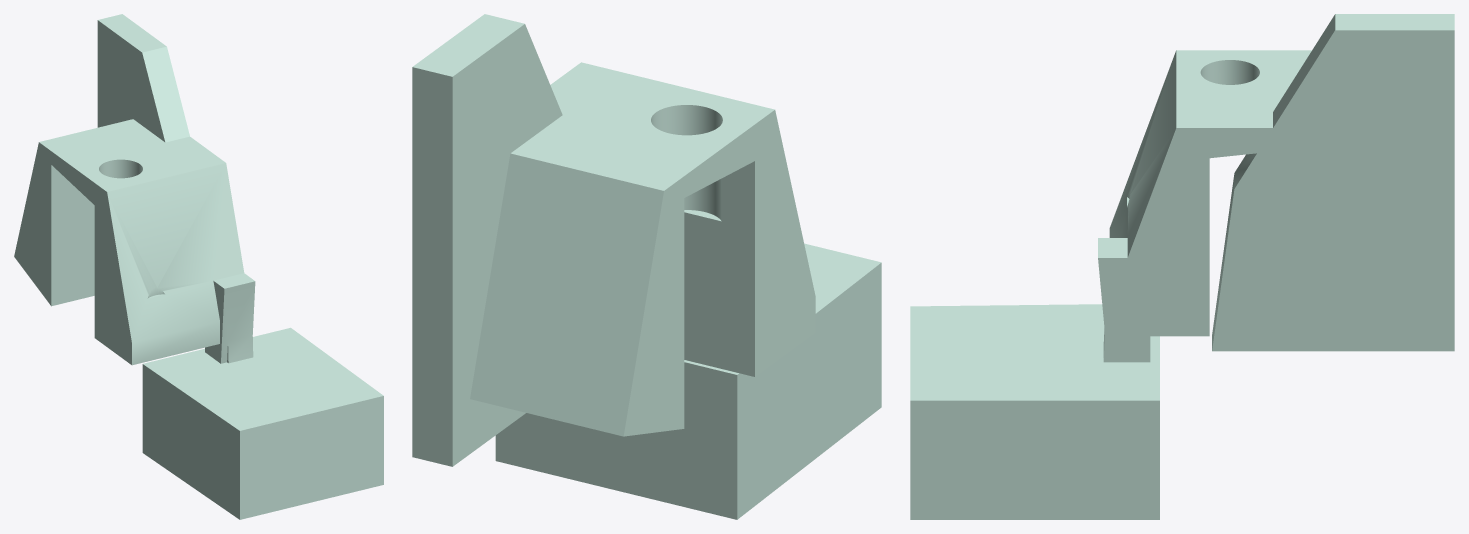
3 views of the same model, side by side, from view 1: azimuth 30°, elevation 25°; view 2: azimuth 150°, elevation 25°; view 3: azimuth 270°, elevation 25° (orthographic). The views are drawn at different scales.
Visible parts, largest first — view 1: Renderer Node; view 2: Renderer Node; view 3: Renderer Node.
Boxes of the visible parts, x1,y1,x2,y2 form: Renderer Node: [14, 14, 383, 519]; Renderer Node: [412, 14, 881, 519]; Renderer Node: [910, 14, 1454, 519].
Size of the model in its own units: 0.8975 by 1.63 by 1.78.
